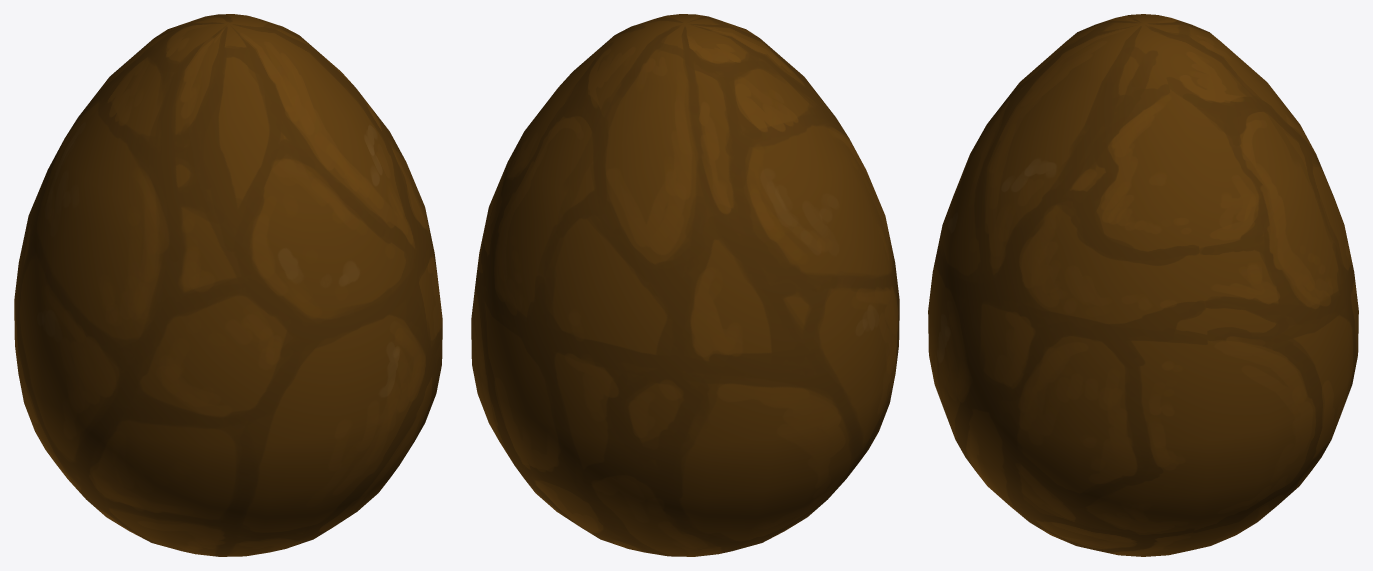
File: easter_egg.fbx
3 renders of one model, left to right at view 1: azimuth 30°, elevation 25°; view 2: azimuth 150°, elevation 25°; view 3: azimuth 270°, elevation 25°, orthographic.
Visible parts, largest first — view 1: pSphere1; view 2: pSphere1; view 3: pSphere1.
Part boxes in pixels (<box>): pSphere1: <box>14,14,442,556</box>; pSphere1: <box>471,14,899,556</box>; pSphere1: <box>928,14,1358,556</box>.
Size of the model in its own units: 2.22 by 2.92 by 2.22.
Materials: 1 (1 with a texture image).
